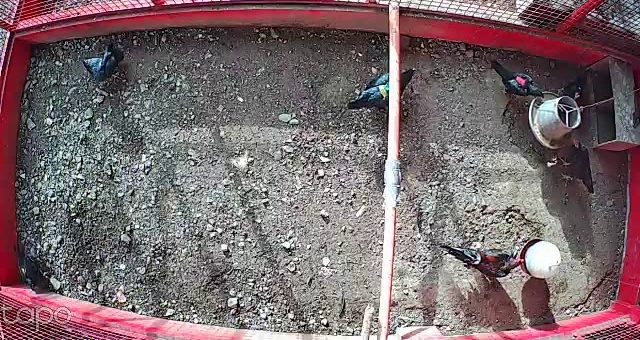Chicken: (7, 239, 67, 301), (74, 40, 141, 93), (346, 62, 418, 111), (547, 135, 601, 199), (488, 59, 544, 102), (551, 66, 596, 103)
Drinker: (518, 233, 561, 276)
Feeder: (525, 89, 587, 152)
Rooster: (436, 239, 528, 287)
Saddle_Color_Red: (516, 75, 525, 85)
Saddle_Color_YellowGreen: (377, 83, 393, 98)
